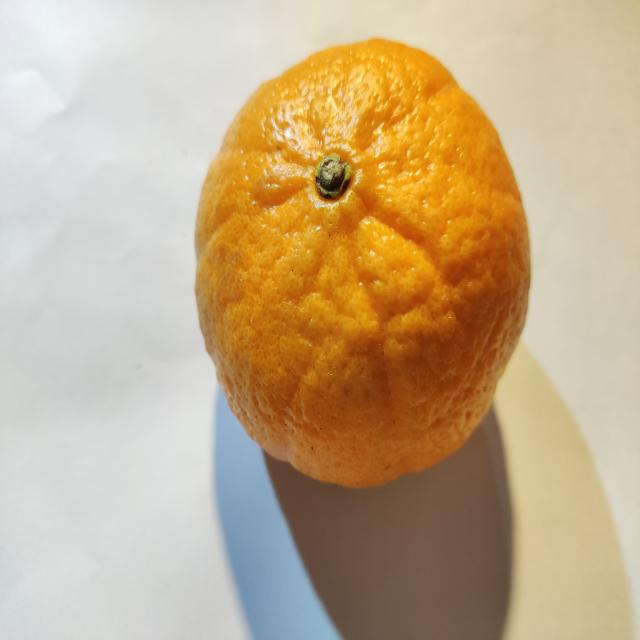orange: (196, 40, 529, 486)
